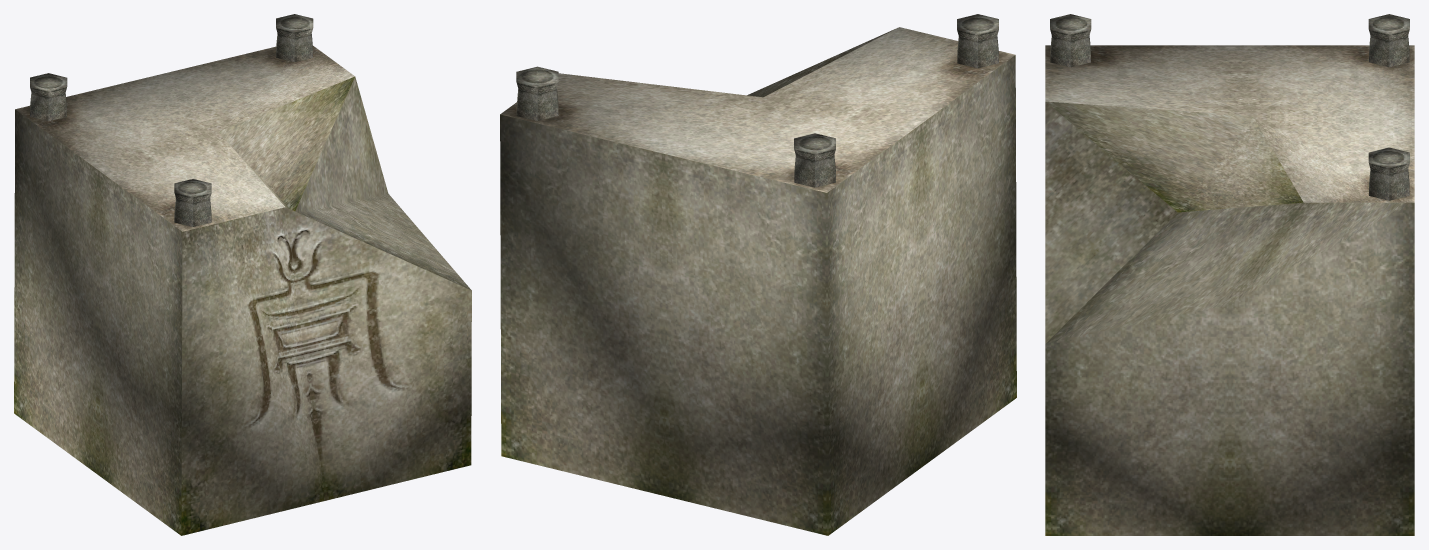
Rendered from landmark_grandstone03.fbx.
3 views of the same model, side by side, from view 1: azimuth 30°, elevation 25°; view 2: azimuth 150°, elevation 25°; view 3: azimuth 270°, elevation 25° (orthographic). The views are drawn at different scales.
Parts seen in each view (by area): view 1: Sphere01; view 2: Sphere01; view 3: Sphere01.
Part boxes in pixels (box(x1,y1,x2,y2)): Sphere01: box(14, 14, 471, 535); Sphere01: box(500, 14, 1016, 535); Sphere01: box(1045, 14, 1414, 535).
Size of the model in its own units: 4.89 by 5.36 by 4.87.
